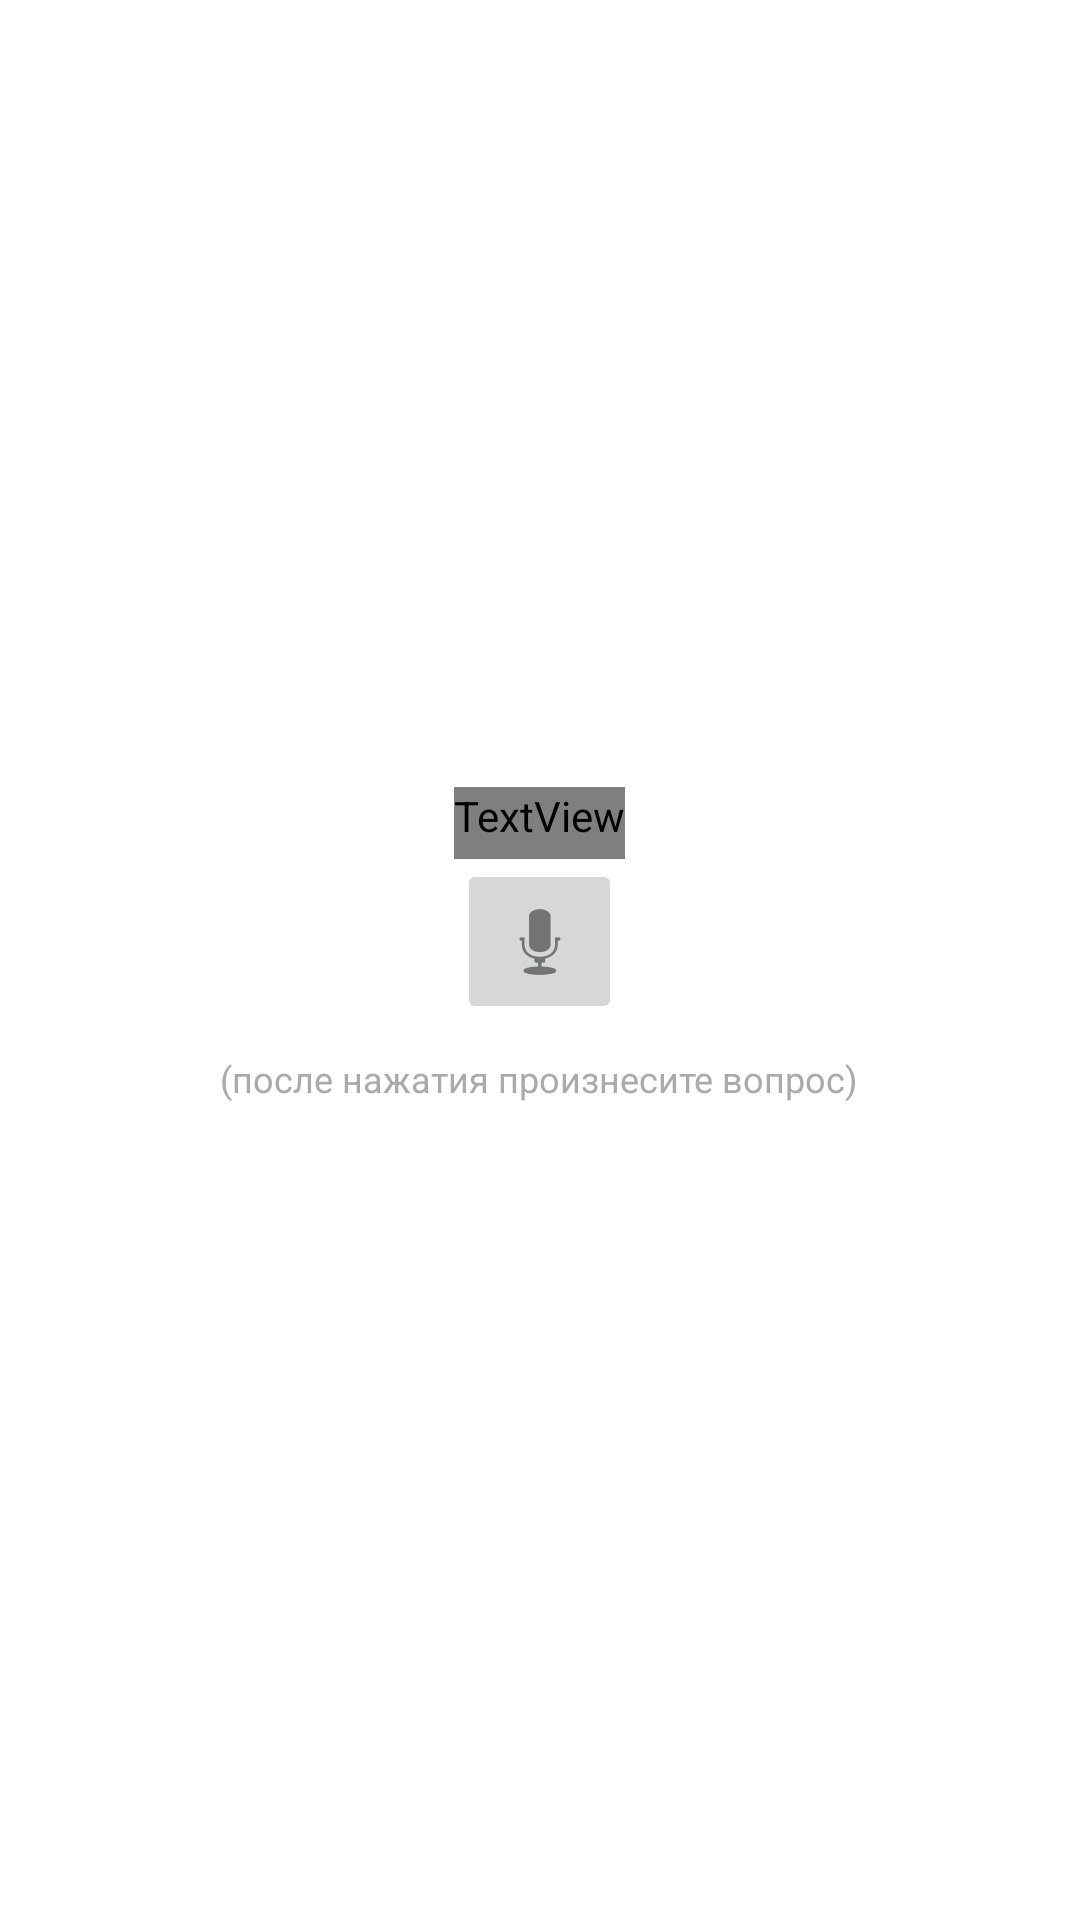

Named icons in this screenshot (1080×1920) and their bounding boxes, (x1, y1, x2, y2):
speak now: (469, 877, 610, 1006)
